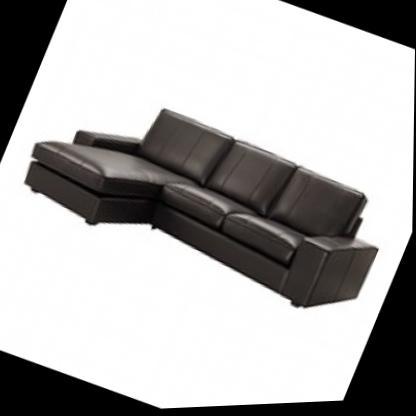Sofa: (0, 37, 413, 367)
